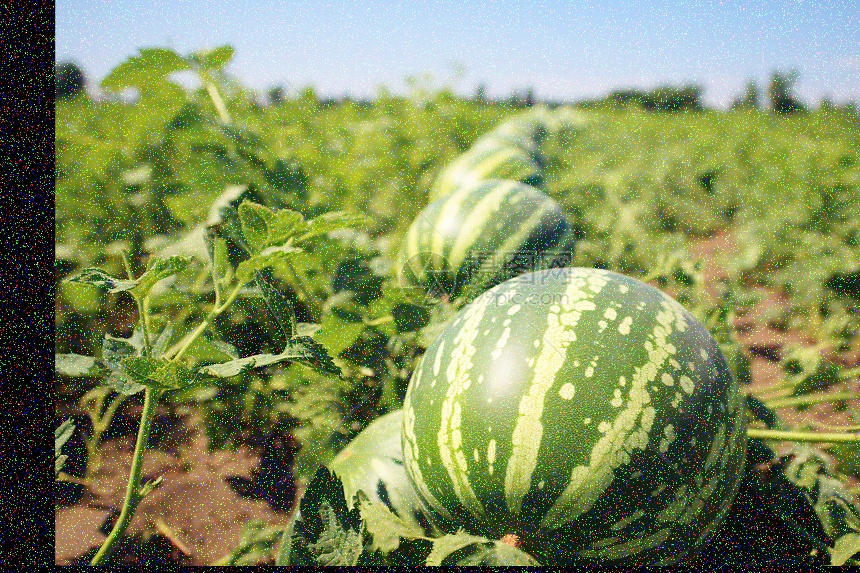watermelon: (402, 270, 744, 555), (398, 176, 576, 303)
